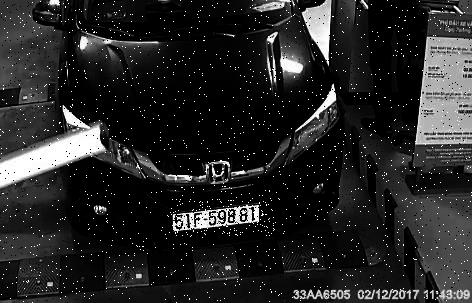License-plate: (172, 200, 276, 237)
